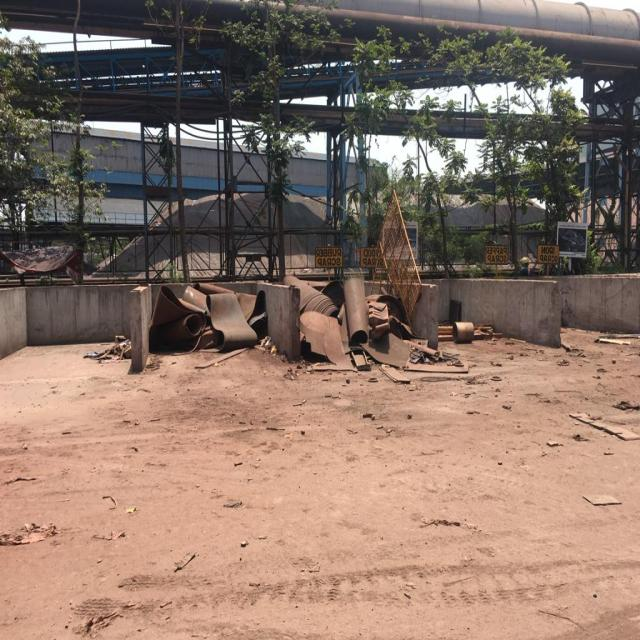dustbins: (1, 280, 150, 385), (134, 282, 292, 378), (260, 282, 439, 365), (458, 277, 639, 348), (379, 282, 544, 357)
